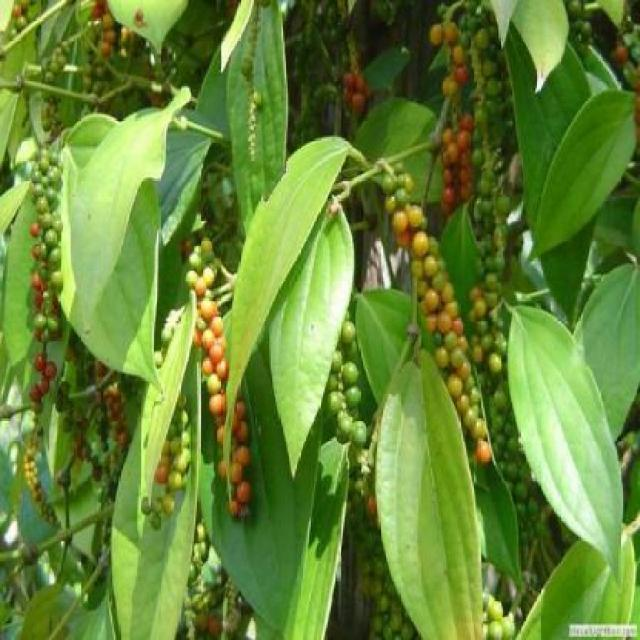RIPE: (383, 174, 479, 451), (192, 273, 248, 519), (431, 22, 472, 205), (96, 345, 127, 443), (31, 356, 54, 402), (343, 71, 368, 108)
UNRIPE: (471, 25, 509, 368), (359, 516, 416, 636), (491, 383, 537, 499), (140, 414, 186, 526), (329, 314, 365, 445), (35, 149, 60, 328), (21, 440, 57, 529), (95, 440, 120, 546), (37, 43, 65, 126), (189, 522, 214, 609), (62, 388, 86, 459), (83, 39, 105, 110), (482, 593, 513, 636), (566, 2, 591, 48), (626, 15, 640, 77)
